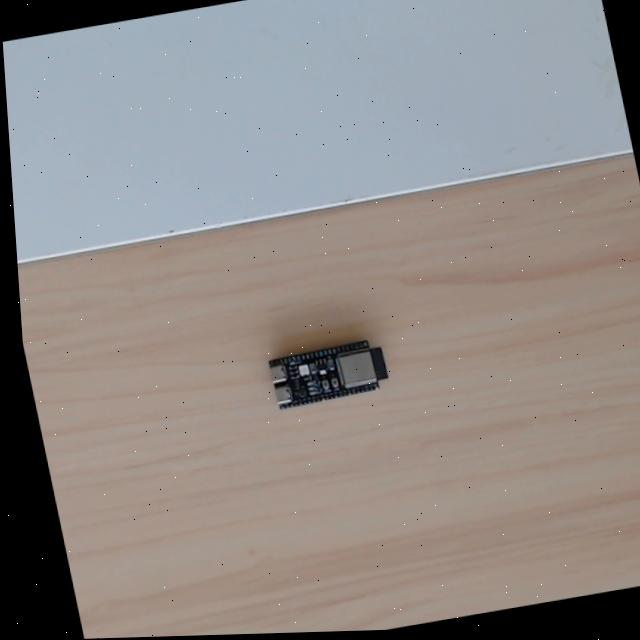ESP32S3-Devkit: (267, 336, 392, 414)
